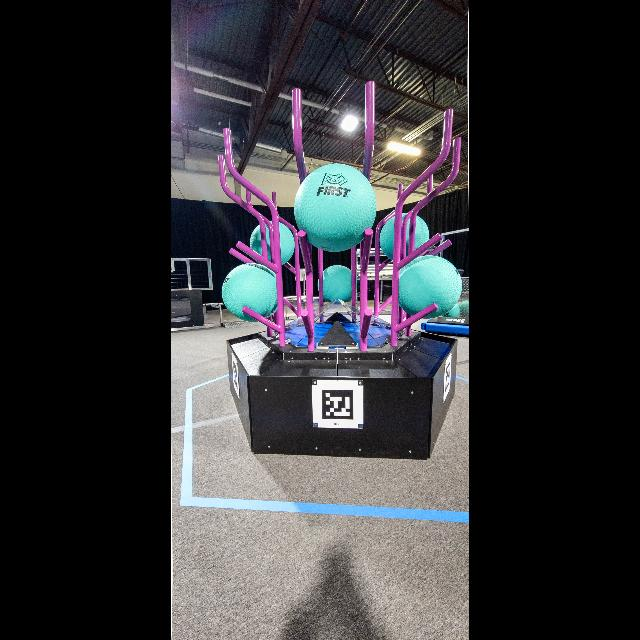ALGAE: (295, 164, 377, 250), (400, 256, 462, 318), (222, 264, 278, 322), (380, 213, 430, 261), (251, 220, 295, 264), (318, 265, 358, 305)
